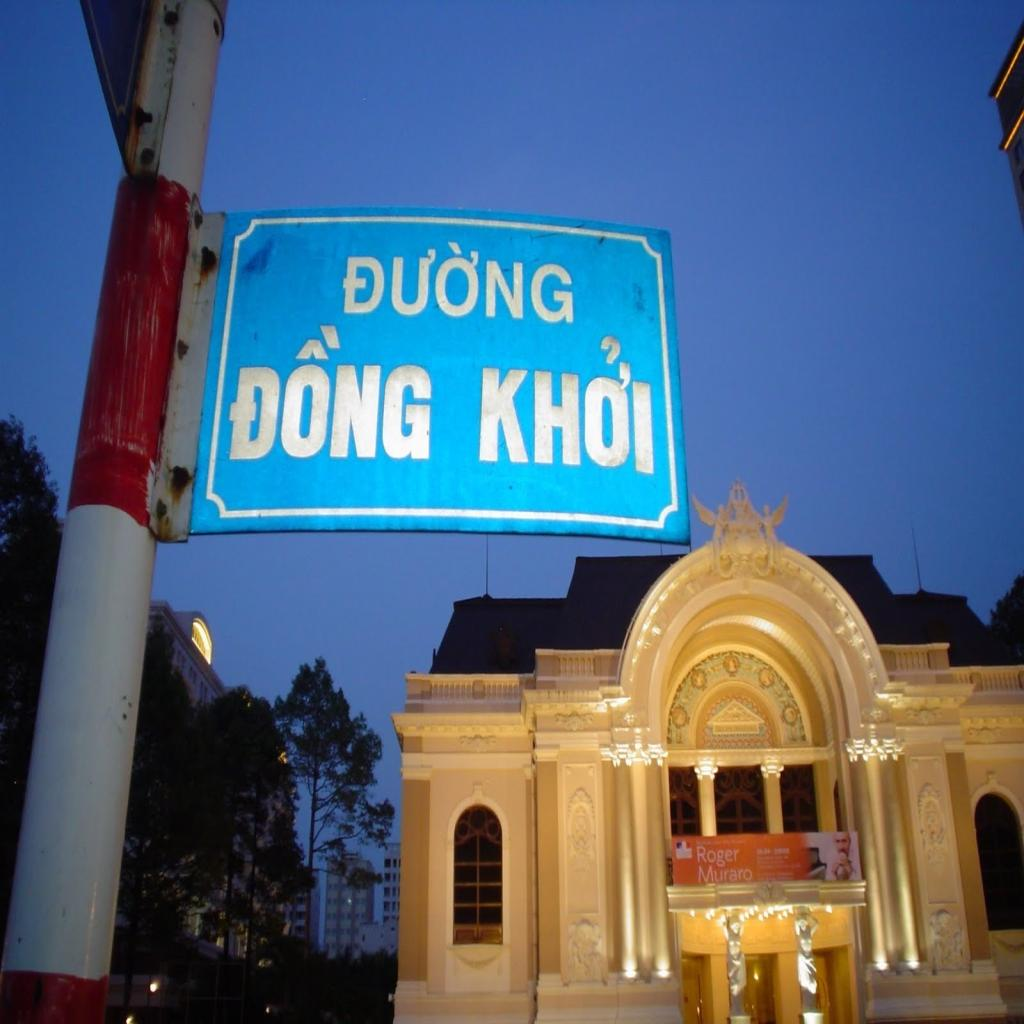text: (218, 322, 437, 466), (476, 334, 656, 478), (338, 231, 578, 332), (698, 866, 754, 885), (696, 845, 741, 867)
